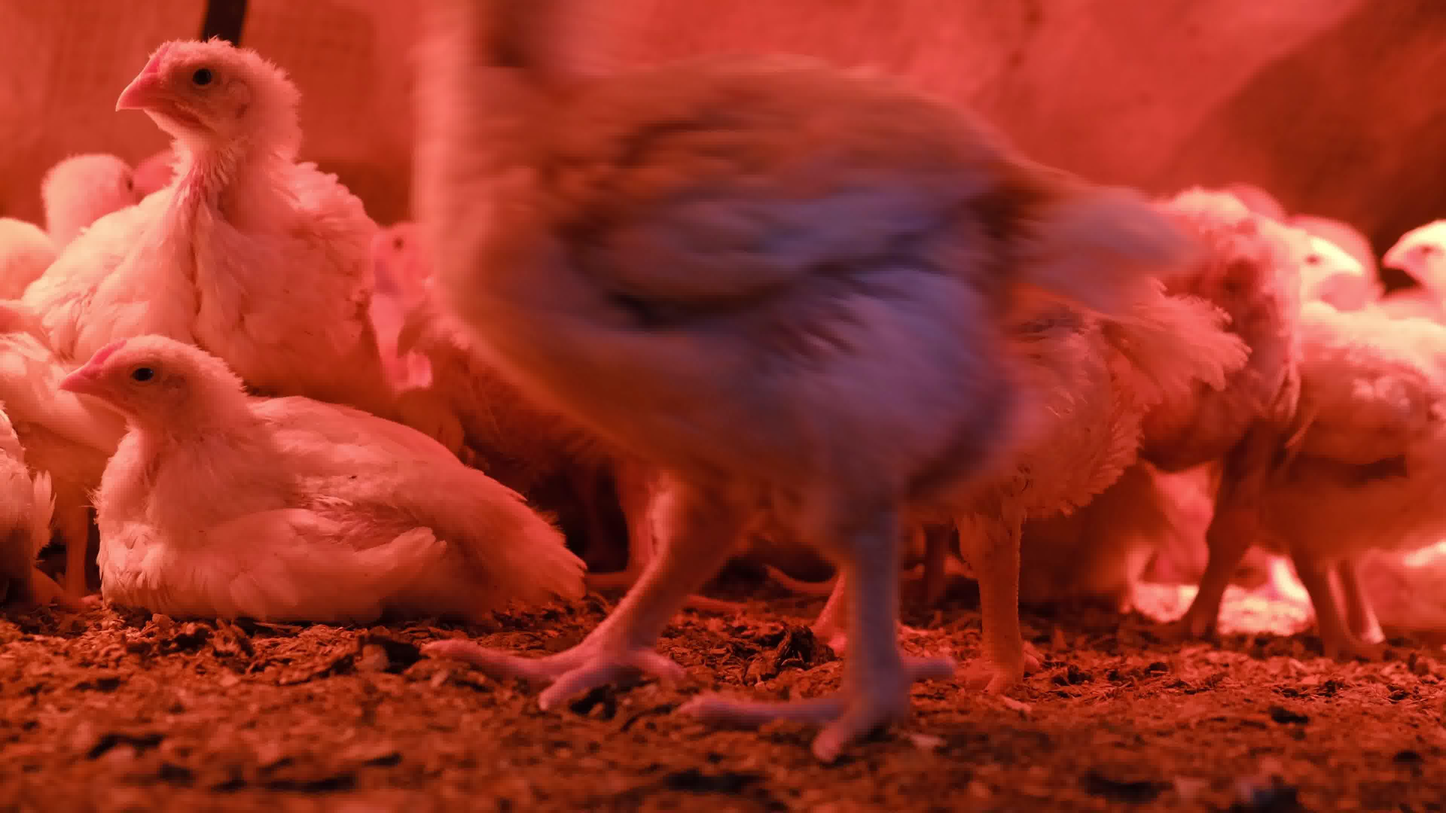AbNormal: (55, 333, 581, 619), (0, 349, 51, 618)
Normal: (413, 0, 1194, 756), (909, 277, 1243, 679), (22, 36, 378, 392), (1119, 187, 1294, 638), (369, 222, 606, 479), (1287, 300, 1444, 648), (0, 215, 108, 601), (42, 151, 135, 256), (1283, 228, 1367, 301), (1380, 219, 1446, 300)
